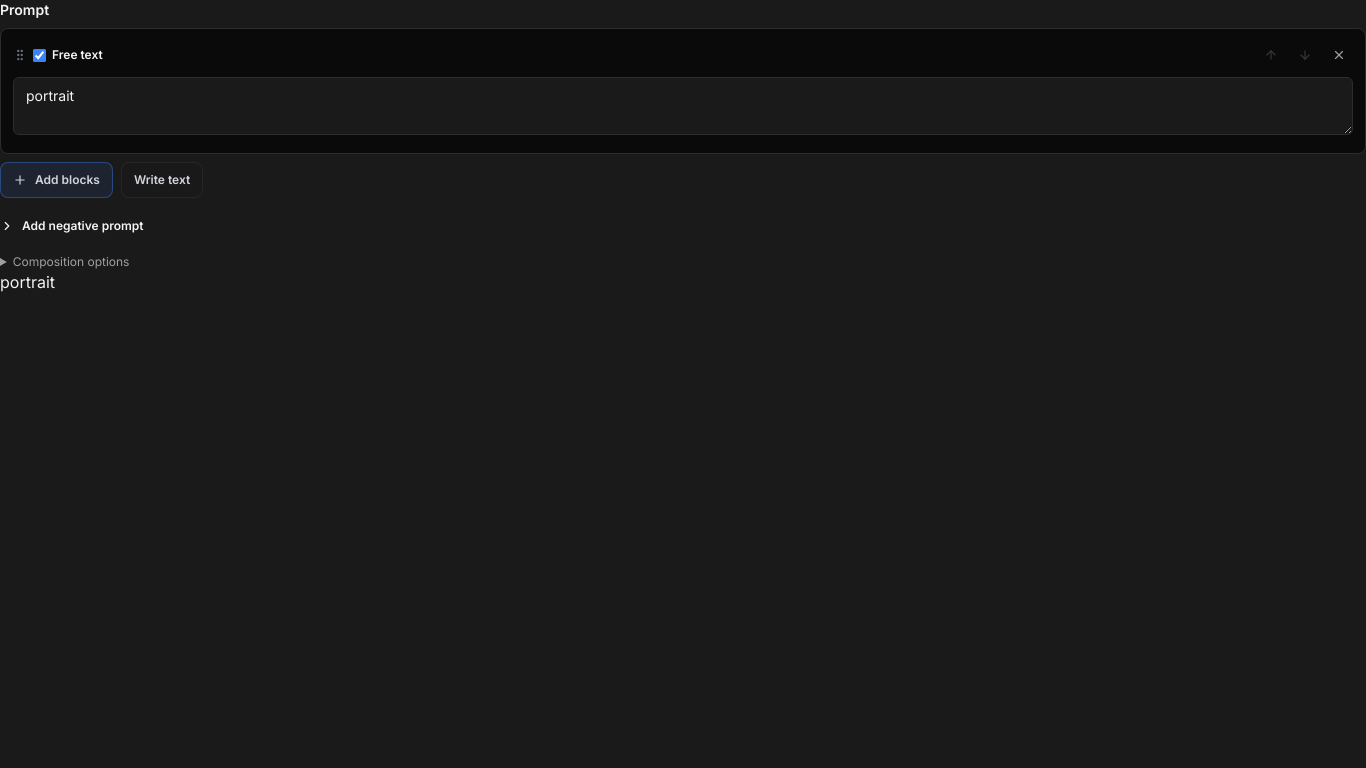
Test case: commits a modal batch into the composer once and matches the proposed preview
Click the button with aria-label "Add positive blocks": (56, 180) [0,162,113,198]
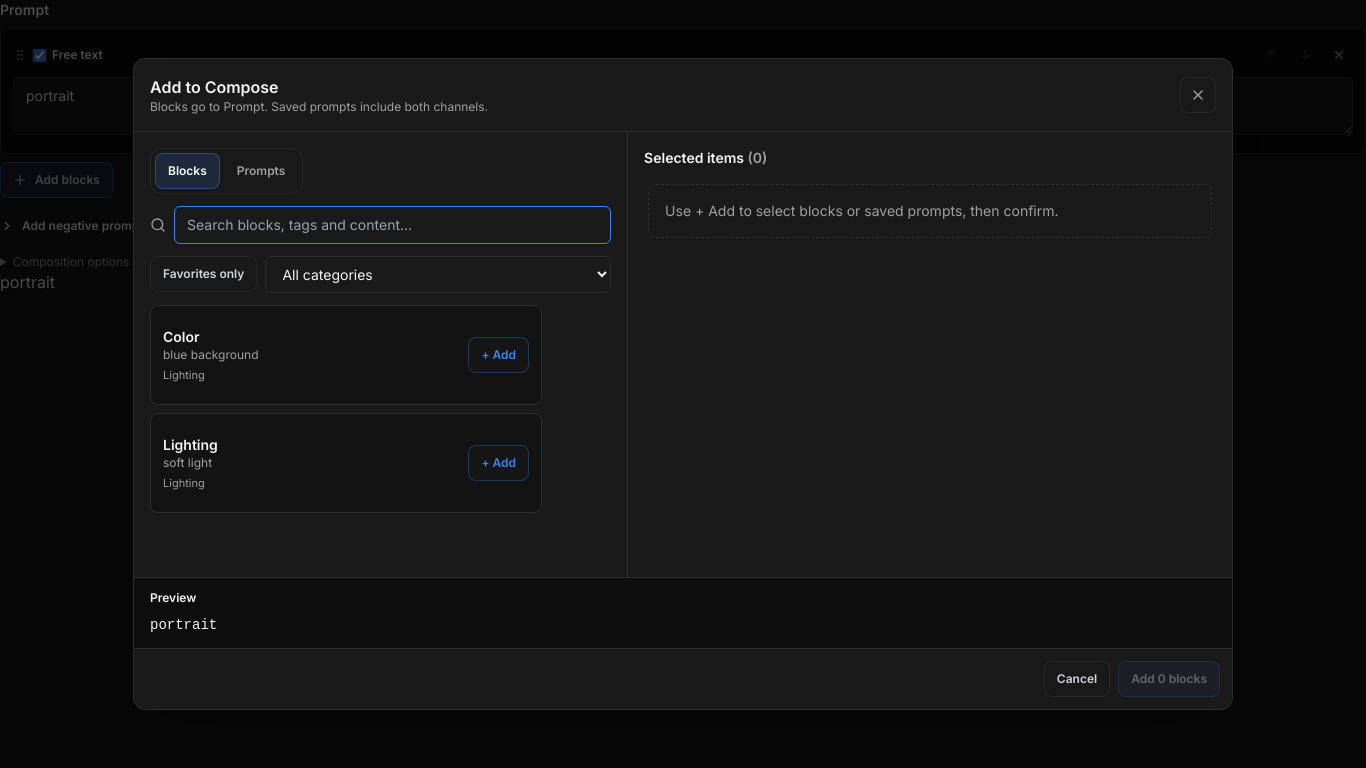
Click the button with aria-label "Add block Lighting": (499, 463) [468,445,529,481]
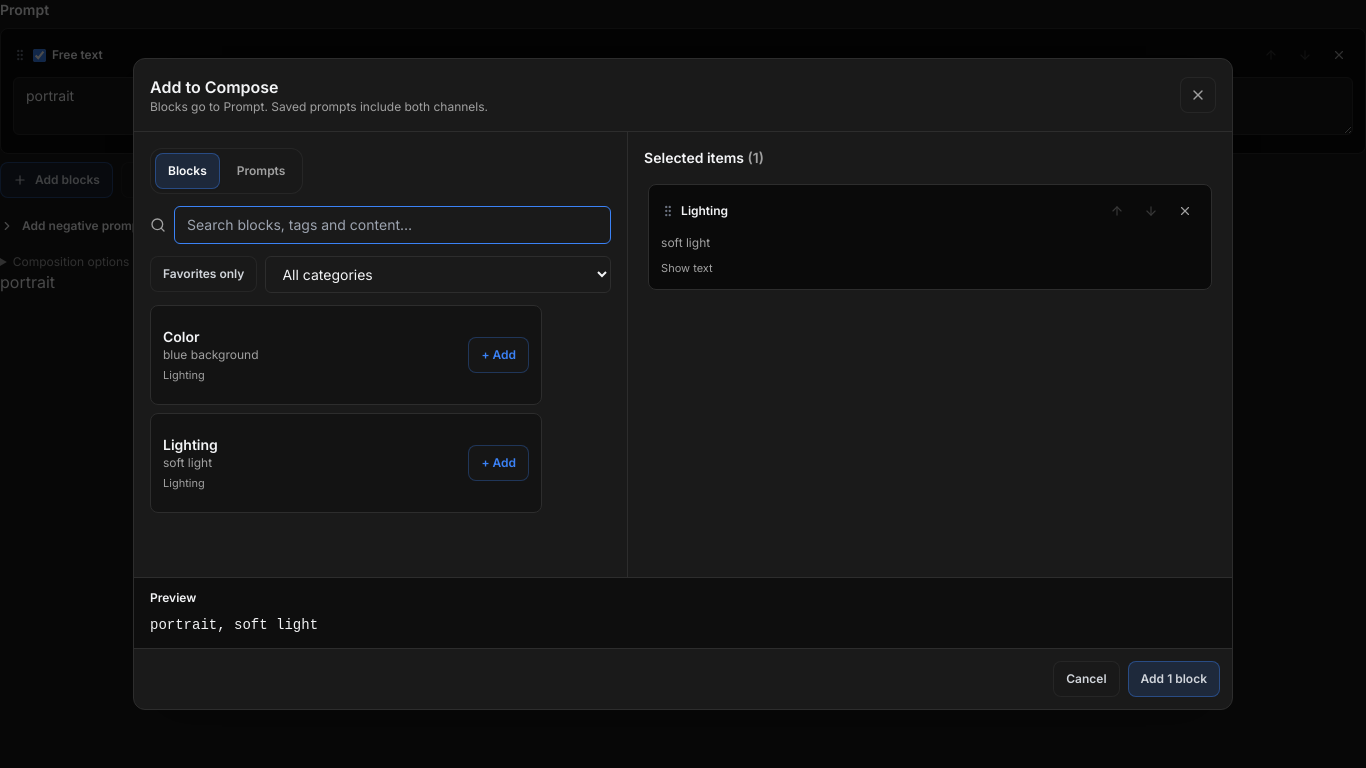
Click the button with aria-label "Add block Lighting": (499, 463) [468,445,529,481]
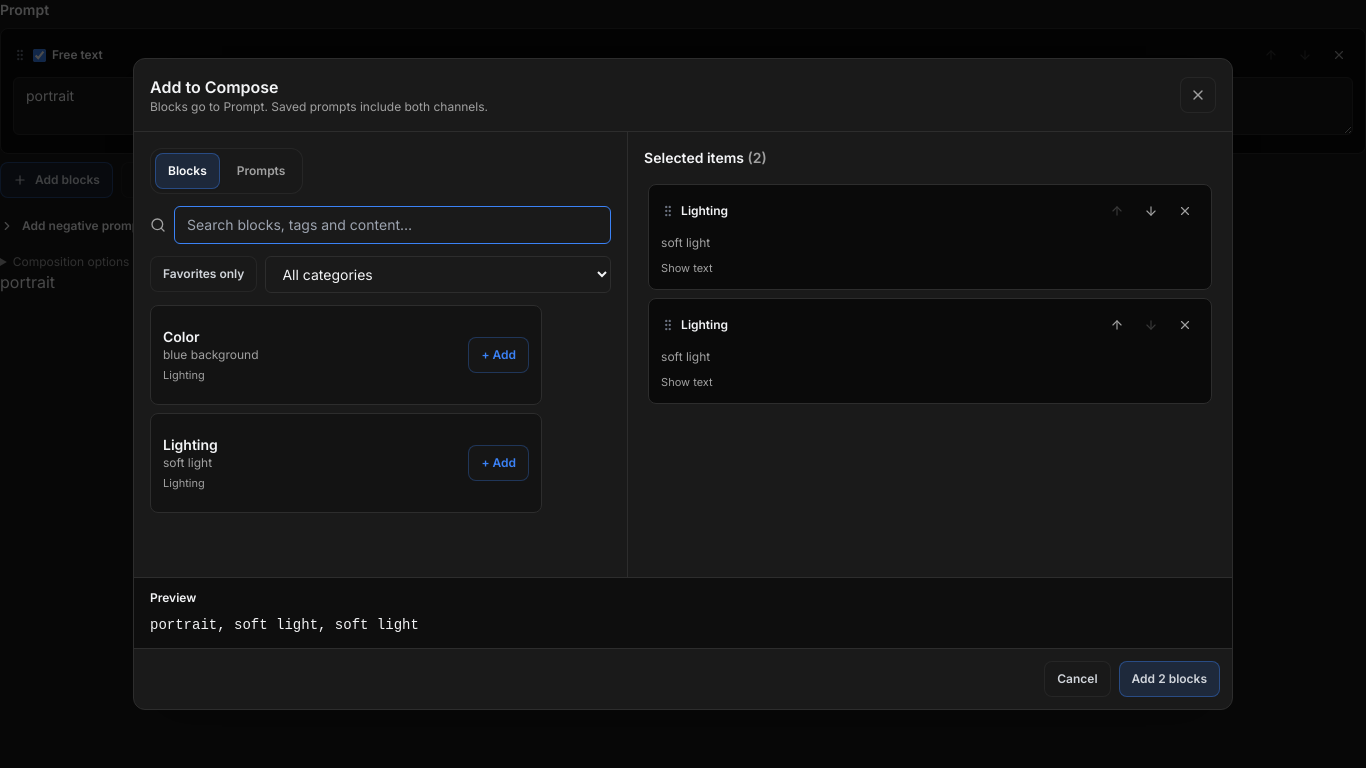
Click the button "Add 2 blocks": (1169, 679) [1119,661,1220,697]
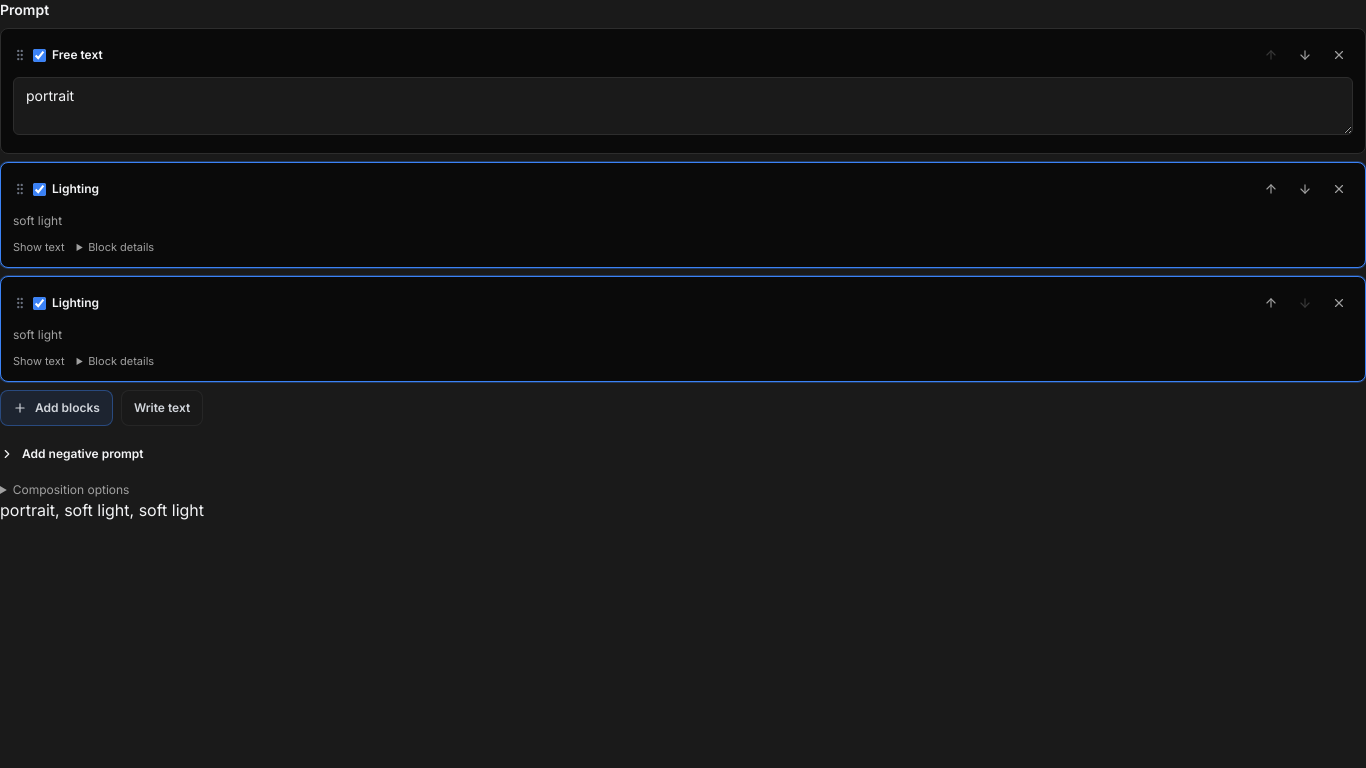
Check: the text "portrait, soft light, soft light" is shown, box [0,500,204,520]
